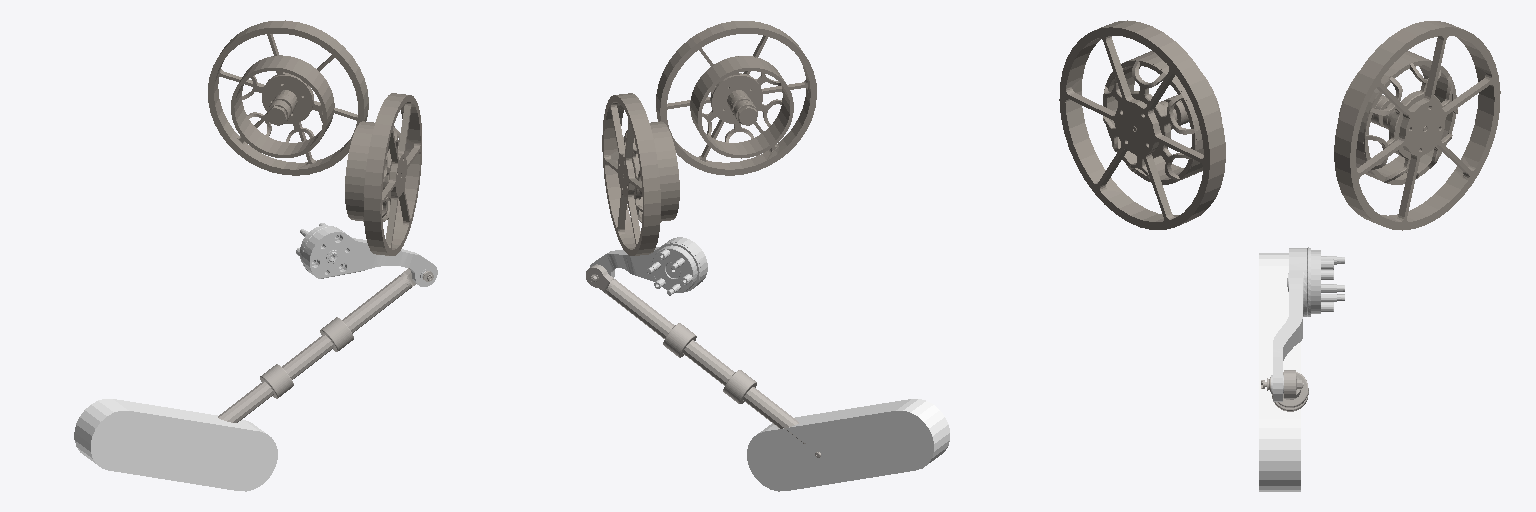
The robot description file, URDF, robot "flyhopper_rw":
<?xml version="1.0" encoding="utf-8"?>
<!-- This URDF was automatically created by SolidWorks to URDF Exporter! Originally created by [author] ([email redacted]) 
     Commit Version: 1.5.1-0-g916b5db  Build Version: 1.5.7152.31018
     For more information, please see http://wiki.ros.org/sw_urdf_exporter -->
<robot
  name="flyhopper_rw">
  <link
    name="base_link">
    <inertial>
      <origin
        xyz="-0.00514562676486118 3.38408505325795E-06 0.047849547003391"
        rpy="0 0 0" />
      <mass
        value="3.26735928312179" />
      <inertia
        ixx="0.00379760962452026"
        ixy="5.23210526490385E-06"
        ixz="9.38257981898972E-05"
        iyy="0.0050103912671889"
        iyz="-1.39610537747668E-07"
        izz="0.00361361274132368" />
    </inertial>
    <visual>
      <origin
        xyz="0 0 0"
        rpy="0 0 0" />
      <geometry>
        <mesh
          filename="package://flyhopper_rw/meshes/base_link.STL" />
      </geometry>
      <material
        name="">
        <color
          rgba="0.898039215686275 0.898039215686275 0.898039215686275 1" />
      </material>
    </visual>
    <collision>
      <origin
        xyz="0 0 0"
        rpy="0 0 0" />
      <geometry>
        <mesh
          filename="package://flyhopper_rw/meshes/base_link.STL" />
      </geometry>
    </collision>
  </link>
  <link
    name="Link 0">
    <inertial>
      <origin
        xyz="0.0127529105137942 0.0182883330694508 0.00117942063158857"
        rpy="0 0 0" />
      <mass
        value="0.244971505585676" />
      <inertia
        ixx="3.8045173571515E-05"
        ixy="1.53797204014879E-05"
        ixz="-8.48319768329473E-06"
        iyy="0.00017256604337067"
        iyz="1.08265579708328E-06"
        izz="0.000148402608297104" />
    </inertial>
    <visual>
      <origin
        xyz="0 0 0"
        rpy="0 0 0" />
      <geometry>
        <mesh
          filename="package://flyhopper_rw/meshes/Link 0.STL" />
      </geometry>
      <material
        name="">
        <color
          rgba="0.898039215686275 0.898039215686275 0.898039215686275 1" />
      </material>
    </visual>
    <collision>
      <origin
        xyz="0 0 0"
        rpy="0 0 0" />
      <geometry>
        <mesh
          filename="package://flyhopper_rw/meshes/Link 0.STL" />
      </geometry>
    </collision>
  </link>
  <joint
    name="Joint 0"
    type="revolute">
    <origin
      xyz="0 0 0"
      rpy="0 0.367813142390011 0" />
    <parent
      link="base_link" />
    <child
      link="Link 0" />
    <axis
      xyz="0 -1 0" />
    <limit
      lower="-3.14"
      upper="3.14"
      effort="0"
      velocity="0" />
  </joint>
  <link
    name="Link 1">
    <inertial>
      <origin
        xyz="0.133412271009693 0.00656091741696295 -2.31284152940603E-09"
        rpy="0 0 0" />
      <mass
        value="0.0630003565580363" />
      <inertia
        ixx="2.55500661184467E-06"
        ixy="6.36488699417343E-12"
        ixz="-9.14129078748834E-13"
        iyy="0.000104300956197372"
        iyz="7.80257758764037E-12"
        izz="0.000104300640063782" />
    </inertial>
    <visual>
      <origin
        xyz="0 0 0"
        rpy="0 0 0" />
      <geometry>
        <mesh
          filename="package://flyhopper_rw/meshes/Link 1.STL" />
      </geometry>
      <material
        name="">
        <color
          rgba="0.776470588235294 0.756862745098039 0.737254901960784 1" />
      </material>
    </visual>
    <collision>
      <origin
        xyz="0 0 0"
        rpy="0 0 0" />
      <geometry>
        <mesh
          filename="package://flyhopper_rw/meshes/Link 1.STL" />
      </geometry>
    </collision>
  </link>
  <joint
    name="Joint 1"
    type="revolute">
    <origin
      xyz="0.1 0 0"
      rpy="-3.14159265358979 0.838668064118148 -3.14159265358979" />
    <parent
      link="Link 0" />
    <child
      link="Link 1" />
    <axis
      xyz="0 -1 0" />
    <limit
      lower="-0.7597"
      upper="1.8295"
      effort="0"
      velocity="0" />
  </joint>
  <link
    name="Link 2">
    <inertial>
      <origin
        xyz="0.041553724196661 -0.0171272810504263 -0.000857922718620643"
        rpy="0 0 0" />
      <mass
        value="0.272297541798603" />
      <inertia
        ixx="3.39636964797473E-05"
        ixy="-3.26049250362929E-07"
        ixz="5.24912410792342E-06"
        iyy="0.000245491222547539"
        iyz="3.0200680308278E-08"
        izz="0.000225991010878087" />
    </inertial>
    <visual>
      <origin
        xyz="0 0 0"
        rpy="0 0 0" />
      <geometry>
        <mesh
          filename="package://flyhopper_rw/meshes/Link 2.STL" />
      </geometry>
      <material
        name="">
        <color
          rgba="0.898039215686275 0.898039215686275 0.898039215686275 1" />
      </material>
    </visual>
    <collision>
      <origin
        xyz="0 0 0"
        rpy="0 0 0" />
      <geometry>
        <mesh
          filename="package://flyhopper_rw/meshes/Link 2.STL" />
      </geometry>
    </collision>
  </link>
  <joint
    name="Joint 2"
    type="revolute">
    <origin
      xyz="0 0 0"
      rpy="3.14159265358979 0.470854921867631 3.14159265358979" />
    <parent
      link="base_link" />
    <child
      link="Link 2" />
    <axis
      xyz="0 -1 0" />
    <limit
      lower="-3.14"
      upper="3.14"
      effort="0"
      velocity="0" />
  </joint>
  <link
    name="Link 3">
    <inertial>
      <origin
        xyz="0.099397 -0.0025532 -0.014762"
        rpy="0 0 0" />
      <mass
        value="0.12288" />
      <inertia
        ixx="1.6058E-05"
        ixy="-5.5656E-07"
        ixz="1.0036E-06"
        iyy="0.00011648"
        iyz="1.0712E-07"
        izz="0.00011292" />
    </inertial>
    <visual>
      <origin
        xyz="0 0 0"
        rpy="0 0 0" />
      <geometry>
        <mesh
          filename="package://flyhopper_rw/meshes/Link 3.STL" />
      </geometry>
      <material
        name="">
        <color
          rgba="1 1 1 1" />
      </material>
    </visual>
    <collision>
      <origin
        xyz="0 0 0"
        rpy="0 0 0" />
      <geometry>
        <mesh
          filename="package://flyhopper_rw/meshes/Link 3.STL" />
      </geometry>
    </collision>
  </link>
  <joint
    name="Joint 3"
    type="revolute">
    <origin
      xyz="0.27 0 0"
      rpy="-3.1416 -0.83867 3.1416" />
    <parent
      link="Link 2" />
    <child
      link="Link 3" />
    <axis
      xyz="0 -1 0" />
    <limit
      lower="-1.8295"
      upper="0.7597"
      effort="0"
      velocity="0" />
  </joint>
  <link
    name="rw0">
    <inertial>
      <origin
        xyz="-0.012902 -9.7145E-17 -1.249E-16"
        rpy="0 0 0" />
      <mass
        value="0.60624" />
      <inertia
        ixx="0.0019134"
        ixy="-1.6263E-19"
        ixz="1.0842E-19"
        iyy="0.00097876"
        iyz="-1.1906E-14"
        izz="0.00097876" />
    </inertial>
    <visual>
      <origin
        xyz="0 0 0"
        rpy="0 0 0" />
      <geometry>
        <mesh
          filename="package://flyhopper_rw/meshes/rw0.STL" />
      </geometry>
      <material
        name="">
        <color
          rgba="0.64706 0.61961 0.58824 1" />
      </material>
    </visual>
    <collision>
      <origin
        xyz="0 0 0"
        rpy="0 0 0" />
      <geometry>
        <mesh
          filename="package://flyhopper_rw/meshes/rw0.STL" />
      </geometry>
    </collision>
  </link>
  <joint
    name="joint_rw0"
    type="continuous">
    <origin
      xyz="0.010406 -0.10233 0.124"
      rpy="2.5708 0 -0.7854" />
    <parent
      link="base_link" />
    <child
      link="rw0" />
    <axis
      xyz="1 0 0" />
  </joint>
  <link
    name="rw1">
    <inertial>
      <origin
        xyz="-0.012902 -8.6042E-16 1.3878E-16"
        rpy="0 0 0" />
      <mass
        value="0.60624" />
      <inertia
        ixx="0.0019134"
        ixy="-1.3553E-19"
        ixz="4.0658E-20"
        iyy="0.00097876"
        iyz="1.1809E-14"
        izz="0.00097876" />
    </inertial>
    <visual>
      <origin
        xyz="0 0 0"
        rpy="0 0 0" />
      <geometry>
        <mesh
          filename="package://flyhopper_rw/meshes/rw1.STL" />
      </geometry>
      <material
        name="">
        <color
          rgba="0.64706 0.61961 0.58824 1" />
      </material>
    </visual>
    <collision>
      <origin
        xyz="0 0 0"
        rpy="0 0 0" />
      <geometry>
        <mesh
          filename="package://flyhopper_rw/meshes/rw1.STL" />
      </geometry>
    </collision>
  </link>
  <joint
    name="joint_rw1"
    type="continuous">
    <origin
      xyz="0.010406 0.10233 0.124"
      rpy="-0.30356 0 0.7854" />
    <parent
      link="base_link" />
    <child
      link="rw1" />
    <axis
      xyz="-1 0 0" />
  </joint>
</robot>

--- What the picture shows (computed from the rendered views, not written in the file) ---
The picture shows the robot from 3 angles, left to right: view 1: azimuth 30°, elevation 25°; view 2: azimuth 150°, elevation 25°; view 3: azimuth 270°, elevation 25°; orthographic projection.
Robot: flyhopper_rw — 7 links, 6 joints (4 revolute, 2 continuous); root link base_link; default pose: every joint at zero.
Visible links, largest first — view 1: Link 3, rw1, rw0, Link 1, Link 0; view 2: Link 3, rw0, rw1, Link 1, Link 0; view 3: rw0, rw1, Link 3, Link 0, Link 1.
Boxes of the visible links, x1,y1,x2,y2 form: Link 3: (74, 399, 277, 491); rw1: (208, 20, 368, 175); rw0: (345, 93, 421, 255); Link 1: (218, 268, 433, 422); Link 0: (296, 223, 437, 286); Link 3: (747, 399, 949, 491); rw0: (656, 21, 816, 175); rw1: (602, 93, 679, 255); Link 1: (586, 264, 820, 457); Link 0: (590, 237, 707, 295); rw0: (1059, 20, 1225, 229); rw1: (1334, 21, 1500, 230); Link 3: (1259, 253, 1300, 491); Link 0: (1271, 247, 1344, 401); Link 1: (1261, 370, 1308, 411).
Size in the robot's own frame: 0.3756 by 0.3106 by 0.4053 metres.
5 mesh visuals loaded from 7 distinct referenced files (5 binary STL); not drawn: 2 (reference not matched to a file when rendering).